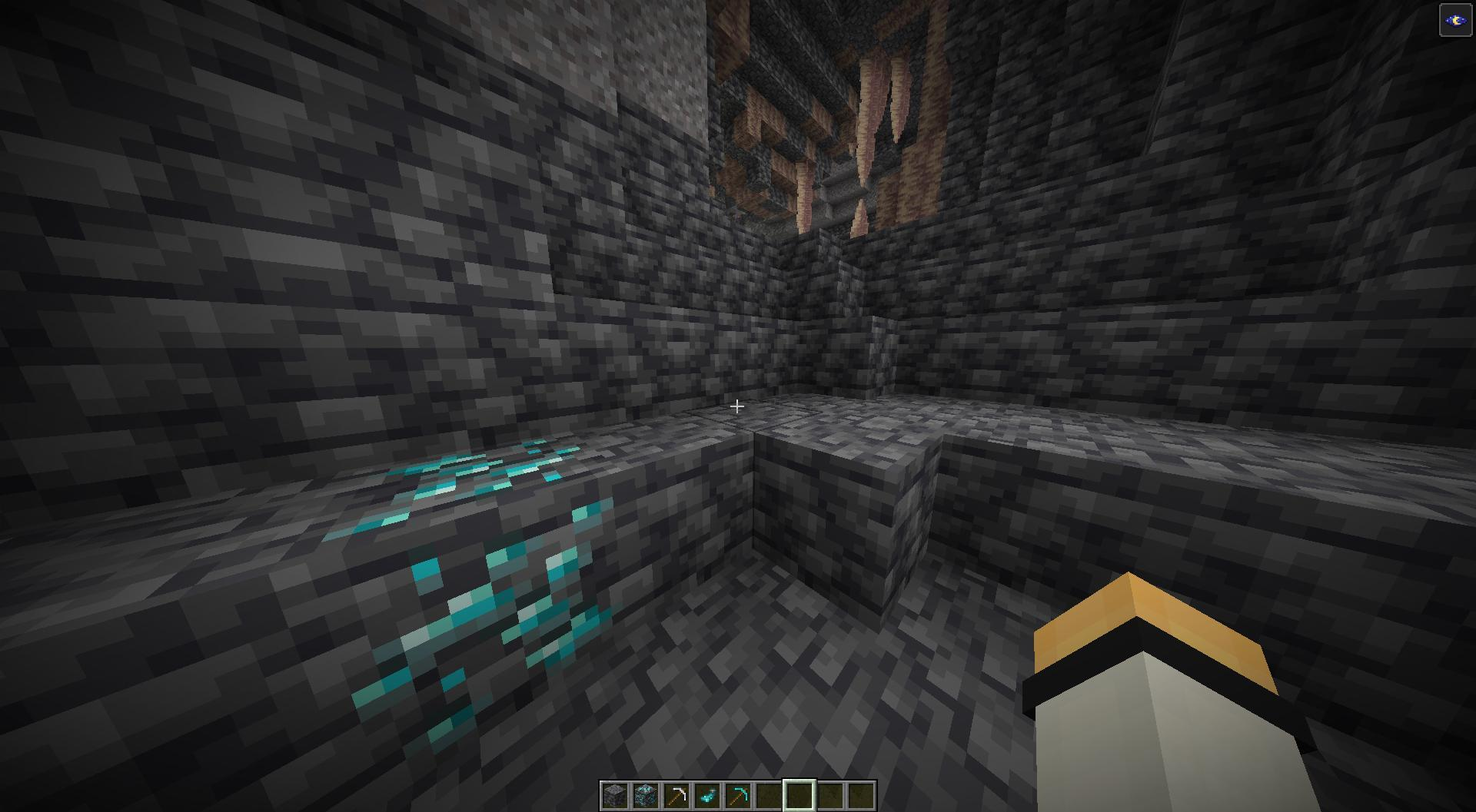diamond ore: (354, 518, 616, 733), (331, 435, 585, 516)
